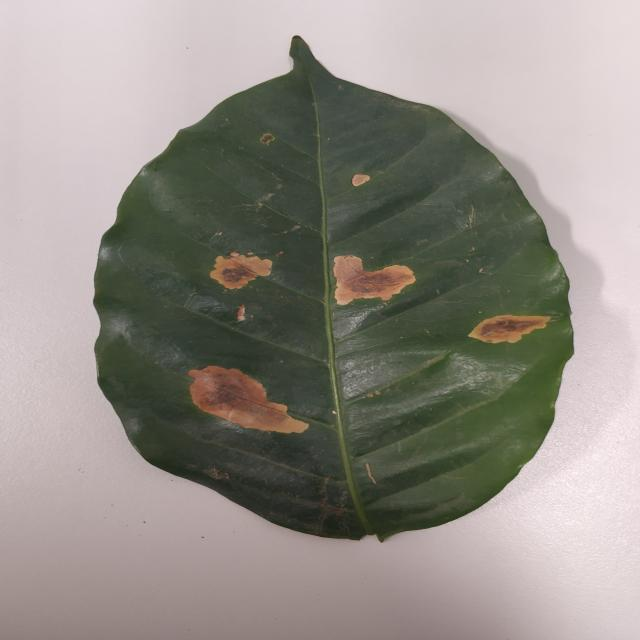Plaga-Minador: (92, 37, 575, 544)
